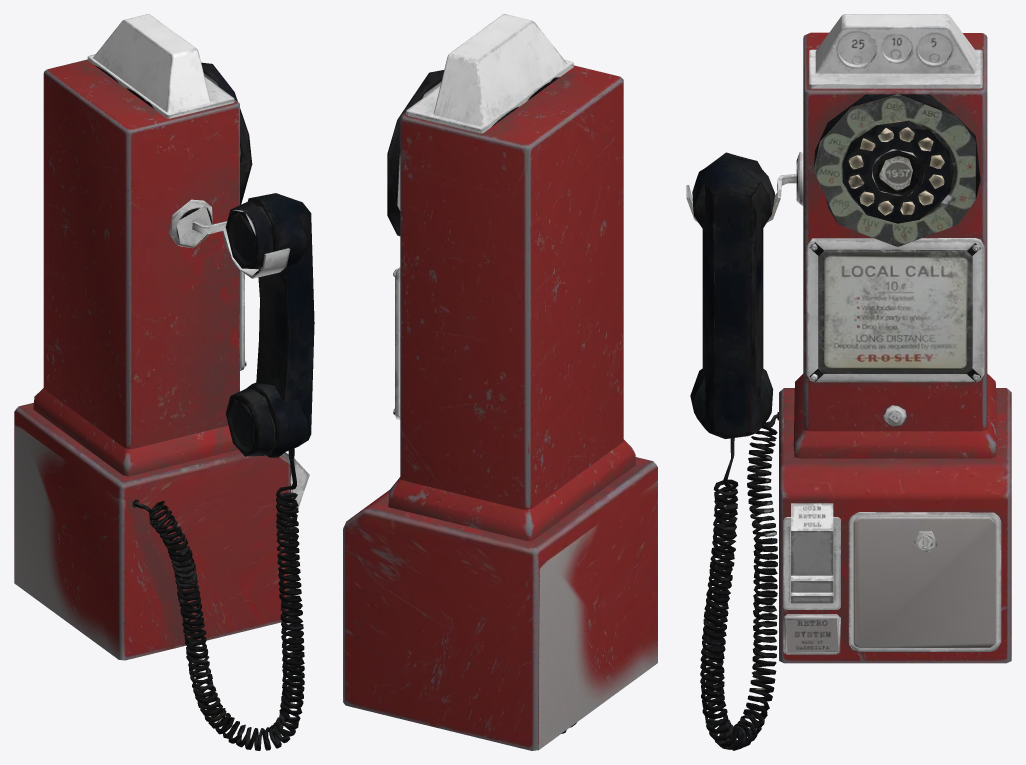
The model's file is packed_payphone.glb.
3 renders of one model, left to right at view 1: azimuth 30°, elevation 25°; view 2: azimuth 150°, elevation 25°; view 3: azimuth 270°, elevation 25°, orthographic. The views are drawn at different scales.
Size of the model in its own units: 152 by 499 by 206.
1 material, 1 textured.
